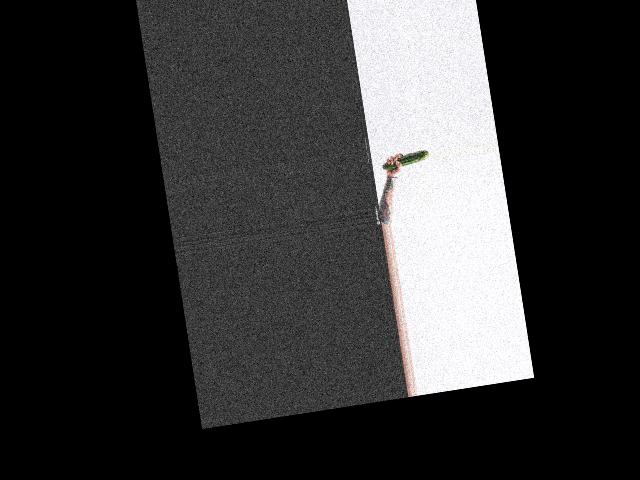cucumber: (380, 149, 430, 170)
